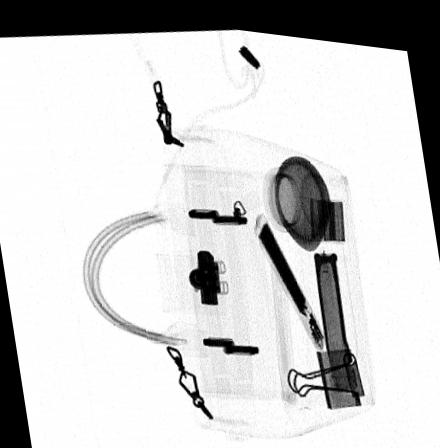Powerbank: (255, 204, 325, 340)
